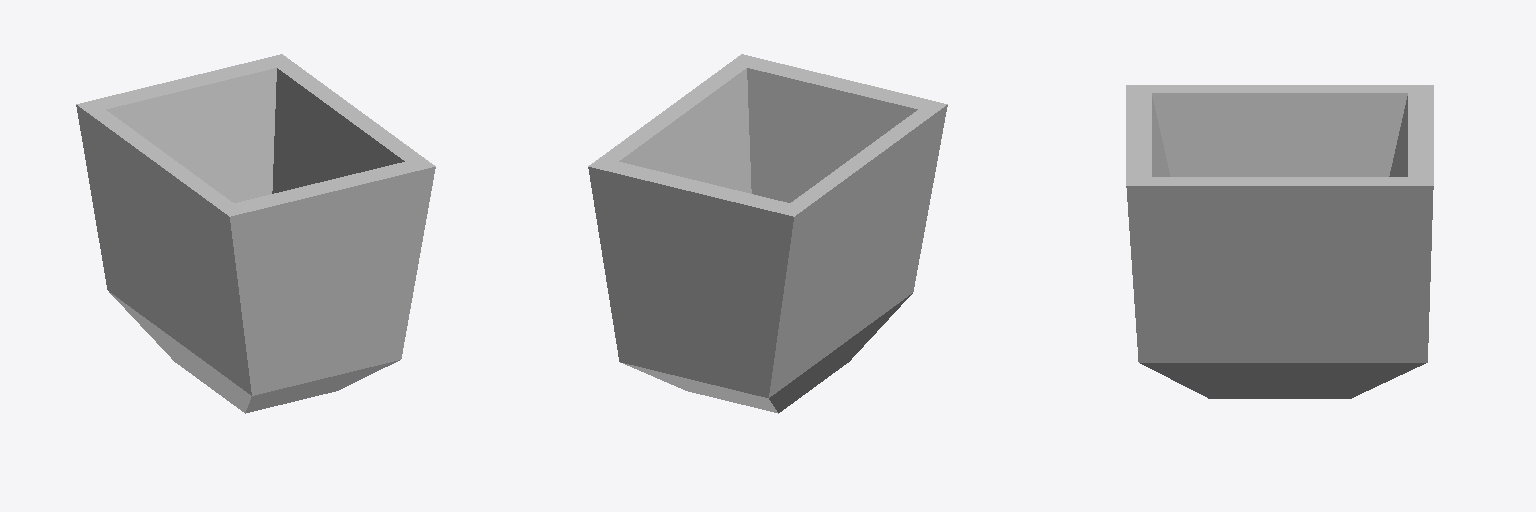
File: minecart_bounds.obj
3 views of the same model, side by side, from view 1: azimuth 30°, elevation 25°; view 2: azimuth 150°, elevation 25°; view 3: azimuth 270°, elevation 25° (orthographic).
Visible parts, largest first — view 1: Mesh_Cube.001; view 2: Mesh_Cube.001; view 3: Mesh_Cube.001.
Part boxes in pixels (x1,y1,x2,y2): Mesh_Cube.001: (76, 54, 435, 413); Mesh_Cube.001: (588, 54, 947, 413); Mesh_Cube.001: (1126, 85, 1433, 398).
Bounding box in the file's own units: 2.65 × 2.96 × 3.42.